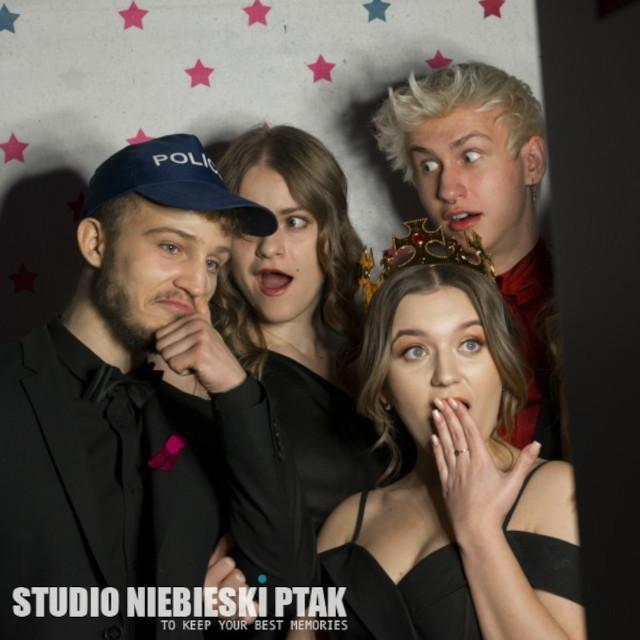kobieta: (307, 261, 578, 640), (223, 118, 366, 467)
mezczyzna: (5, 132, 235, 640), (374, 57, 566, 364)
